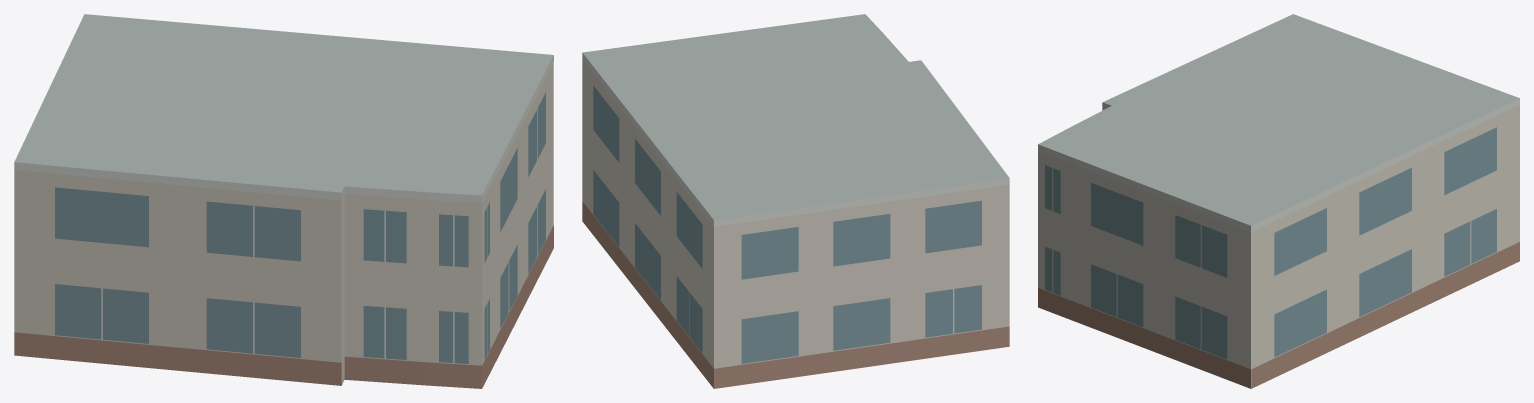
The model's file is survey-upis-32883982.glb.
3 views of the same model, side by side, from view 1: azimuth 30°, elevation 25°; view 2: azimuth 150°, elevation 25°; view 3: azimuth 270°, elevation 25° (orthographic). The views are drawn at different scales.
Visible parts, largest first — view 1: survey-upis-32883982.tmp; view 2: survey-upis-32883982.tmp; view 3: survey-upis-32883982.tmp.
Boxes of the visible parts, x1,y1,x2,y2 form: survey-upis-32883982.tmp: [14, 14, 553, 388]; survey-upis-32883982.tmp: [582, 14, 1009, 388]; survey-upis-32883982.tmp: [1038, 14, 1519, 388].
Size of the model in its own units: 17.01 by 6.1 by 16.34.
